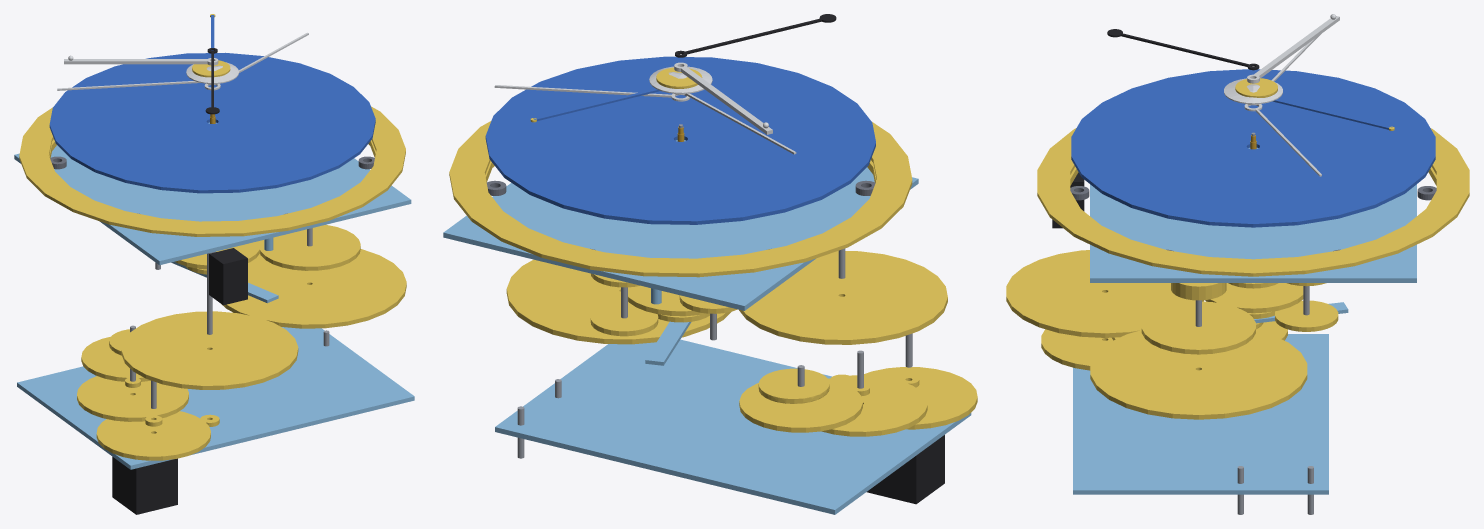
File: m2_main_dial_feasibility_exploded.dae
The picture shows the model from 3 angles, left to right: view 1: azimuth 30°, elevation 25°; view 2: azimuth 150°, elevation 25°; view 3: azimuth 270°, elevation 25°; orthographic projection. The views are drawn at different scales.
Visible parts, largest first — view 1: dial, back_plate, front_plate, I_154, calendar_ring, J_169, Y1_99, Y2_97, J_88, motor, E6_calendar_motor, Y3_89 (+4 smaller); view 2: dial, back_plate, front_plate, calendar_ring, I_154, J_169, Y3_89, Y2_97, Y1_99, motor, year_cam, S_shadow_48 (+6 smaller); view 3: dial, back_plate, front_plate, J_169, calendar_ring, I_154, J_88, wheel_moon, Y1_99, S_shadow_48, hand_moon, diff_moon (+3 smaller).
Part boxes in pixels (<box>): dial: <box>49,52,375,193</box>; back_plate: <box>17,327,414,469</box>; front_plate: <box>14,122,411,265</box>; I_154: <box>121,311,298,389</box>; calendar_ring: <box>19,106,405,236</box>; J_169: <box>221,249,406,328</box>; Y1_99: <box>96,411,210,460</box>; Y2_97: <box>77,376,188,421</box>; J_88: <box>259,225,360,270</box>; motor: <box>112,457,177,514</box>; E6_calendar_motor: <box>209,248,247,305</box>; Y3_89: <box>81,336,150,381</box>; dial: <box>485,56,875,224</box>; back_plate: <box>495,339,971,514</box>; front_plate: <box>443,140,918,310</box>; calendar_ring: <box>449,121,912,277</box>; I_154: <box>739,251,947,344</box>; J_169: <box>506,259,731,344</box>; Y3_89: <box>739,378,862,432</box>; Y2_97: <box>821,375,927,436</box>; Y1_99: <box>864,367,977,429</box>; motor: <box>867,435,944,504</box>; year_cam: <box>758,368,829,403</box>; S_shadow_48: <box>590,303,658,336</box>; dial: <box>1071,69,1435,227</box>; back_plate: <box>1073,334,1328,494</box>; front_plate: <box>1090,147,1416,282</box>; J_169: <box>1090,330,1307,419</box>; calendar_ring: <box>1037,128,1469,276</box>; I_154: <box>1006,250,1203,337</box>; J_88: <box>1141,301,1255,354</box>; wheel_moon: <box>1205,283,1303,313</box>; Y1_99: <box>1041,329,1112,370</box>; S_shadow_48: <box>1275,300,1338,331</box>; hand_moon: <box>1247,16,1339,83</box>; diff_moon: <box>1171,283,1226,300</box>.
Bounding box in the file's own units: 348 × 363 × 365.
